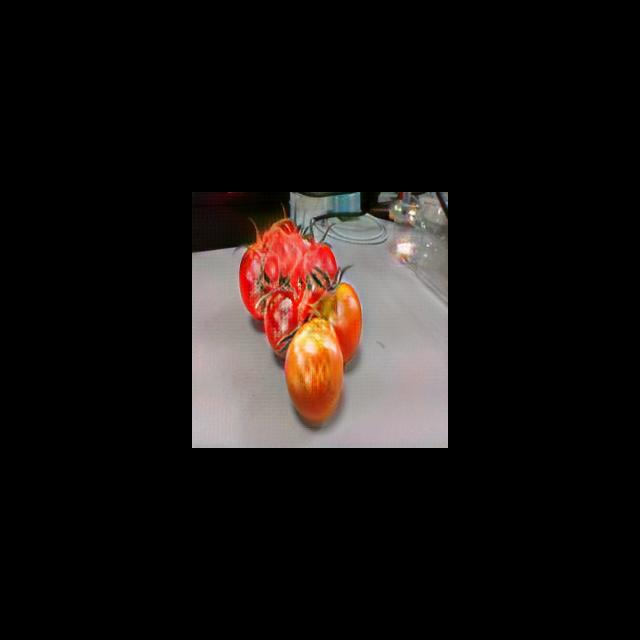tomato: (287, 319, 345, 424), (265, 286, 308, 355), (239, 245, 282, 309)
